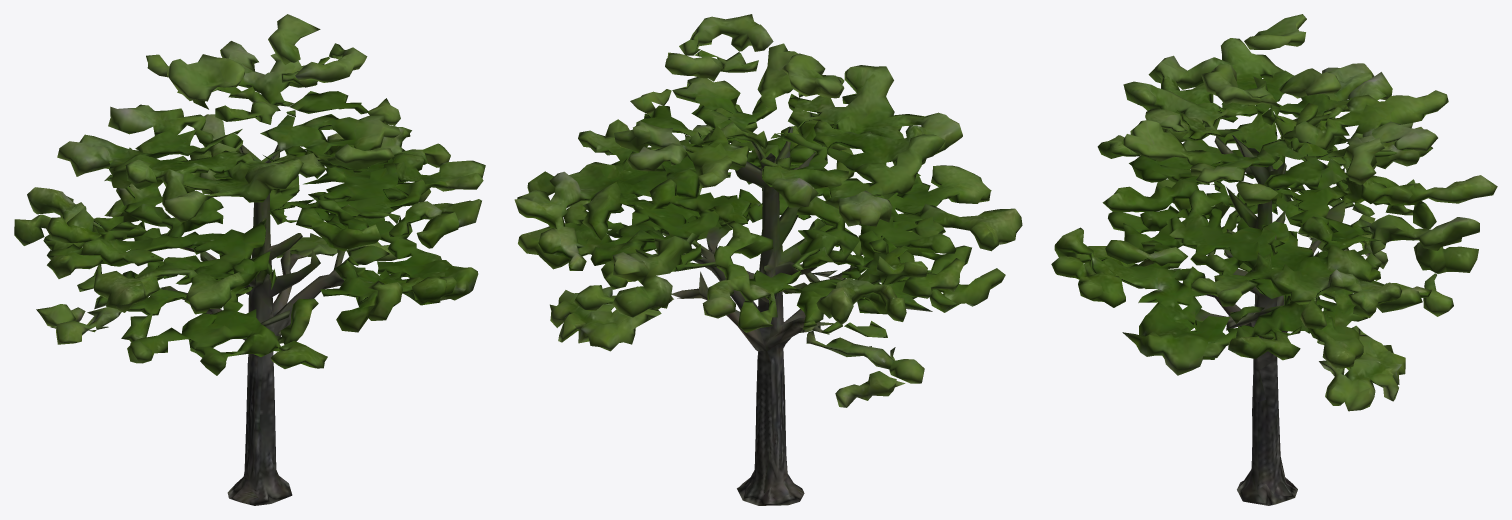
The model's file is pohon.glb.
3 views of the same model, side by side, from view 1: azimuth 30°, elevation 25°; view 2: azimuth 150°, elevation 25°; view 3: azimuth 270°, elevation 25° (orthographic).
Parts seen in each view (by area): view 1: tripo_node_84ea65ce-ced5-44dc-ac22-840a167c3c59; view 2: tripo_node_84ea65ce-ced5-44dc-ac22-840a167c3c59; view 3: tripo_node_84ea65ce-ced5-44dc-ac22-840a167c3c59.
Part boxes in pixels (x1,y1,x2,y2): tripo_node_84ea65ce-ced5-44dc-ac22-840a167c3c59: (14,14,485,505); tripo_node_84ea65ce-ced5-44dc-ac22-840a167c3c59: (514,14,1022,505); tripo_node_84ea65ce-ced5-44dc-ac22-840a167c3c59: (1051,14,1497,505).
Bounding box in the file's own units: 0.9711 × 0.9924 × 0.8983.
Materials: 1 (1 with a texture image).
